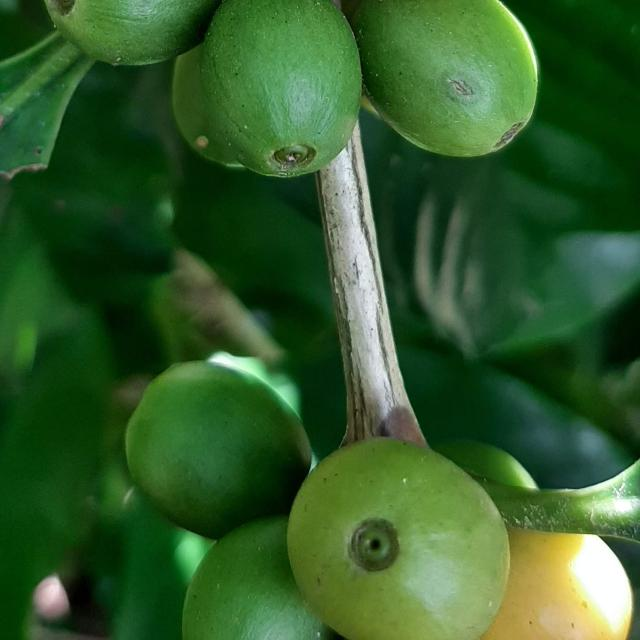green: (287, 439, 511, 640), (125, 361, 311, 539), (352, 0, 538, 156), (200, 0, 362, 176), (183, 516, 334, 640), (44, 0, 220, 64), (172, 43, 243, 167), (434, 441, 539, 489)
red: (482, 530, 633, 640)
